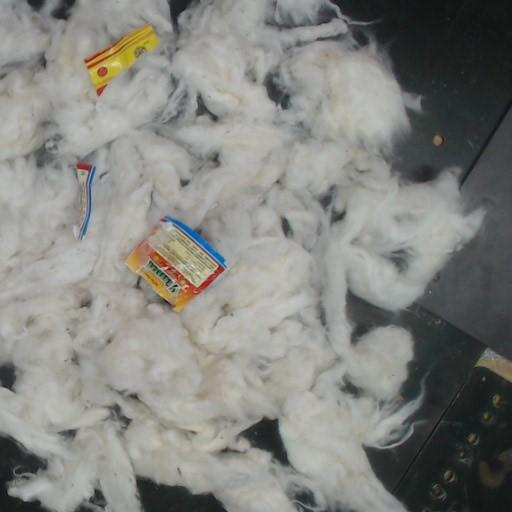cotton: (0, 0, 485, 511)
packet: (126, 217, 226, 310), (86, 24, 158, 95), (76, 163, 94, 239)
